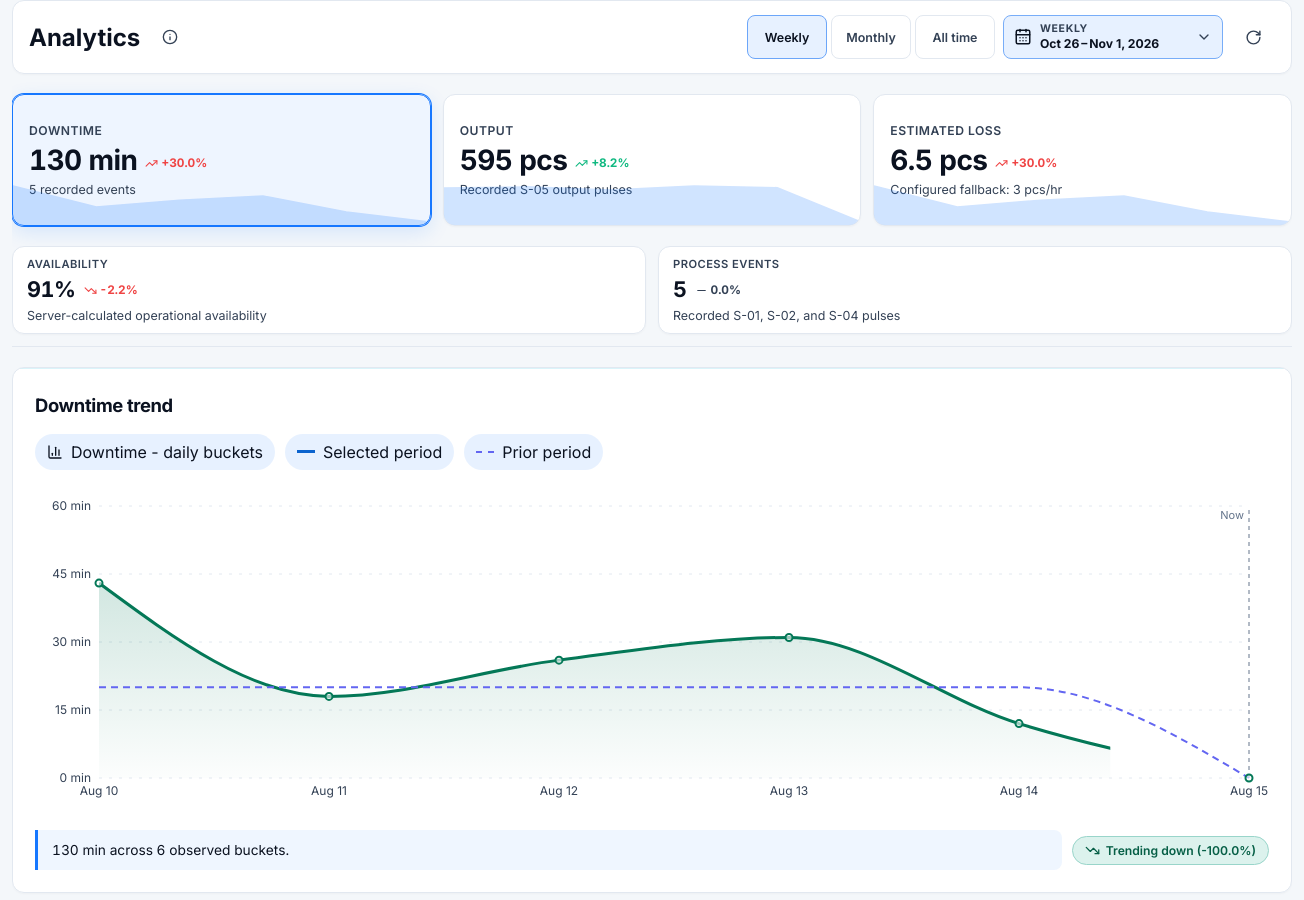
Test: AnalyticsSection recorded-data states › hides the date picker for All time and restores it for a selected period
This screenshot has width=1304, height=900.
Expected: the heading "Analytics" is shown, [29,22,140,52]
Click the button "All time".
click(955, 37)  # box [915,15,995,59]
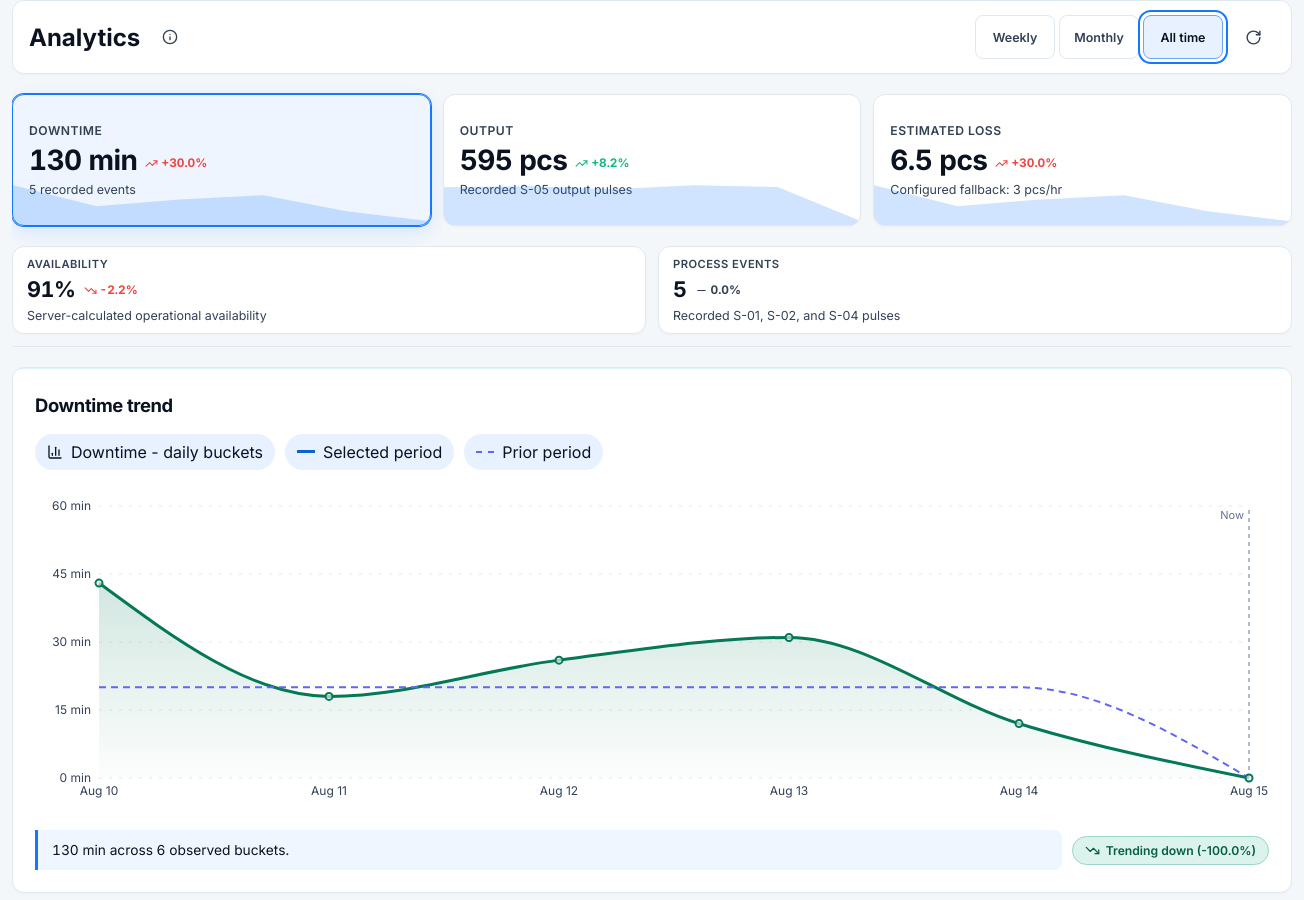
Click the button "Monthly".
click(1099, 37)  # box [1059,15,1139,59]
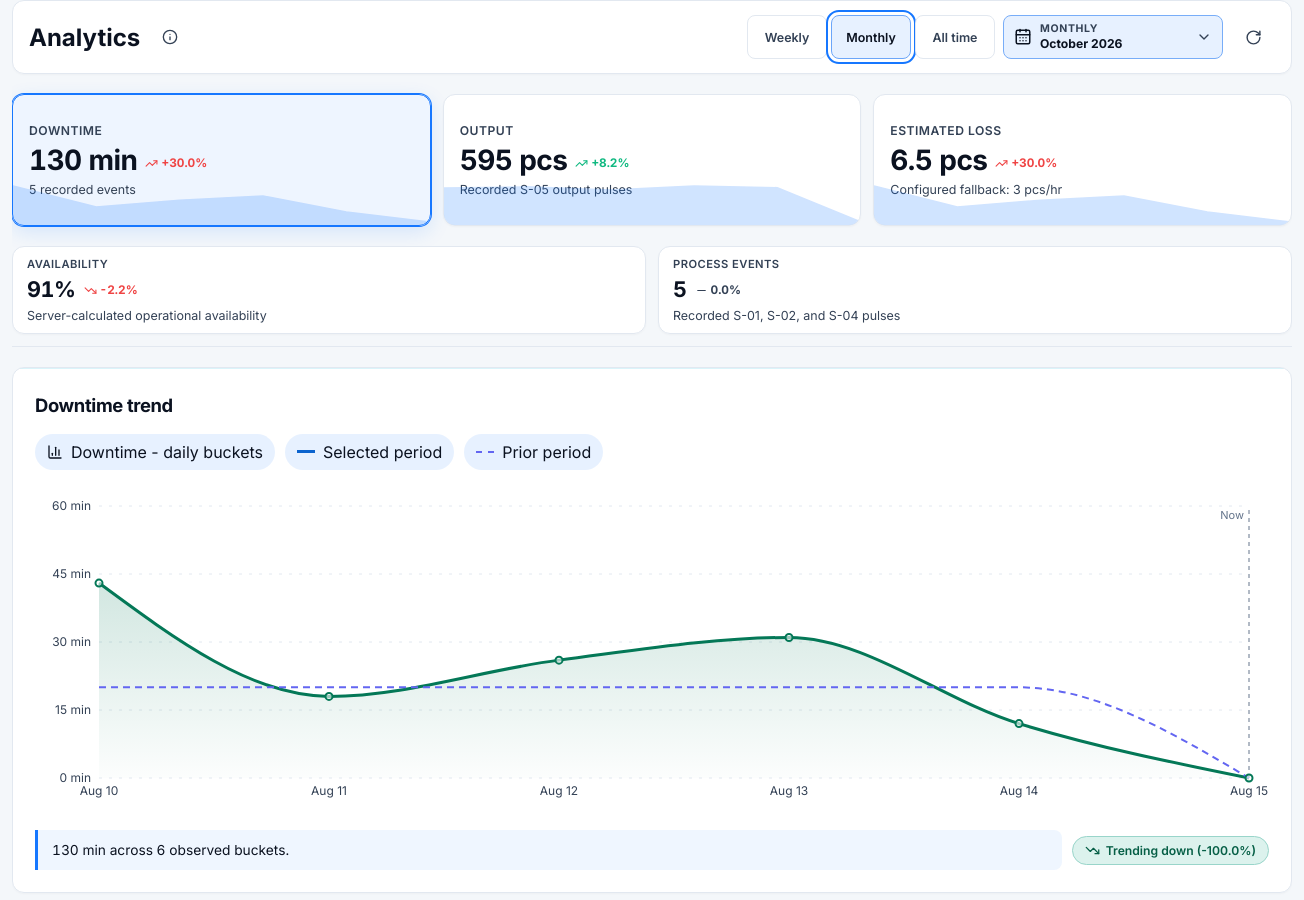
Expected: the button with aria-label "Select Analytics month" is shown, [1003,15,1223,59]
Click the button "Weekly".
click(787, 37)  # box [747,15,827,59]
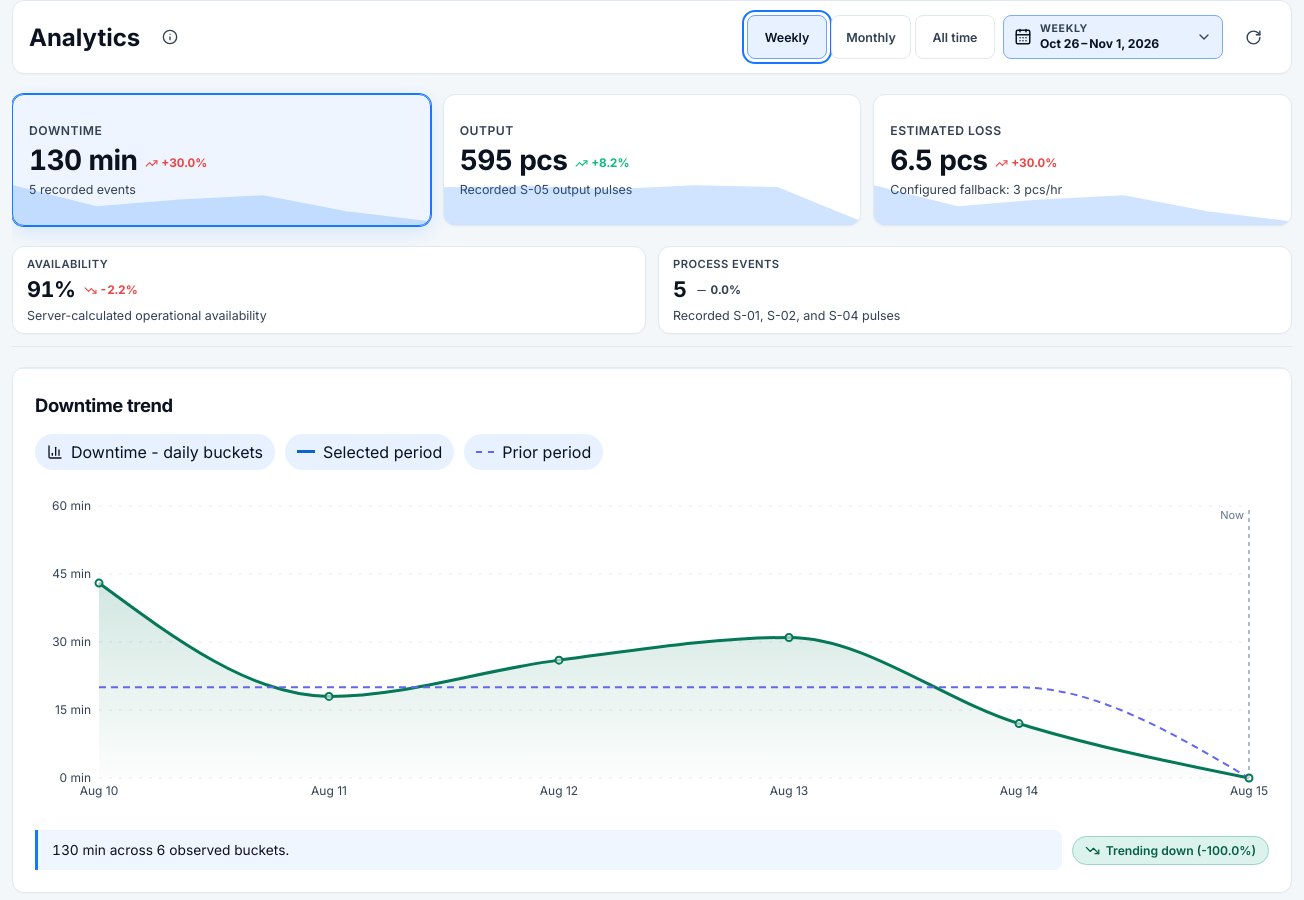
Expected: the button with aria-label "Select Analytics week" is shown, [1003,15,1223,59]
